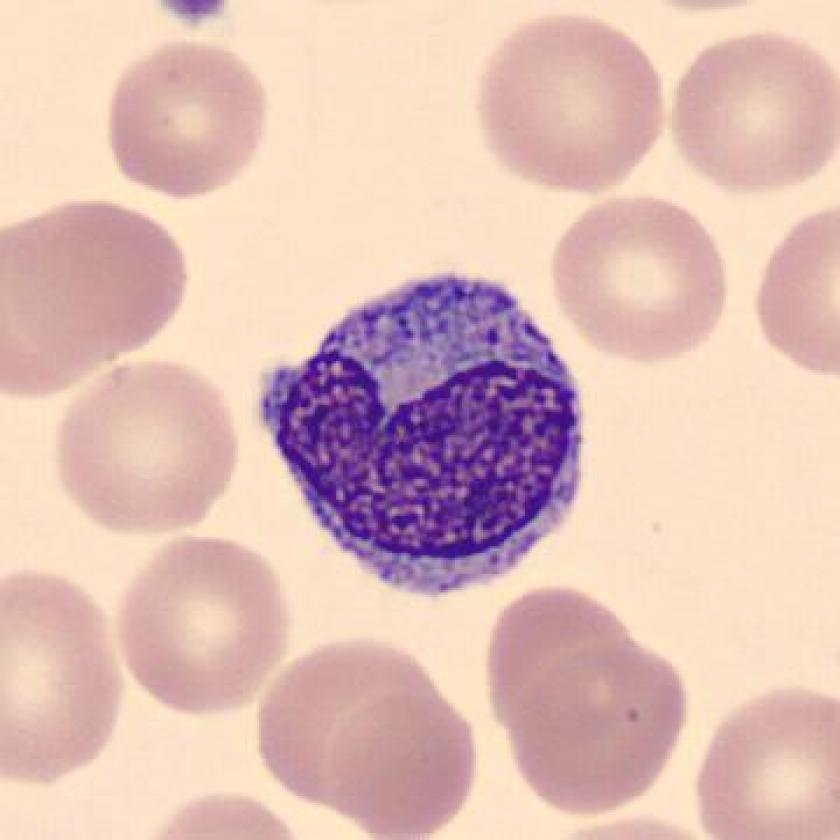monocyte: (244, 253, 615, 617)
